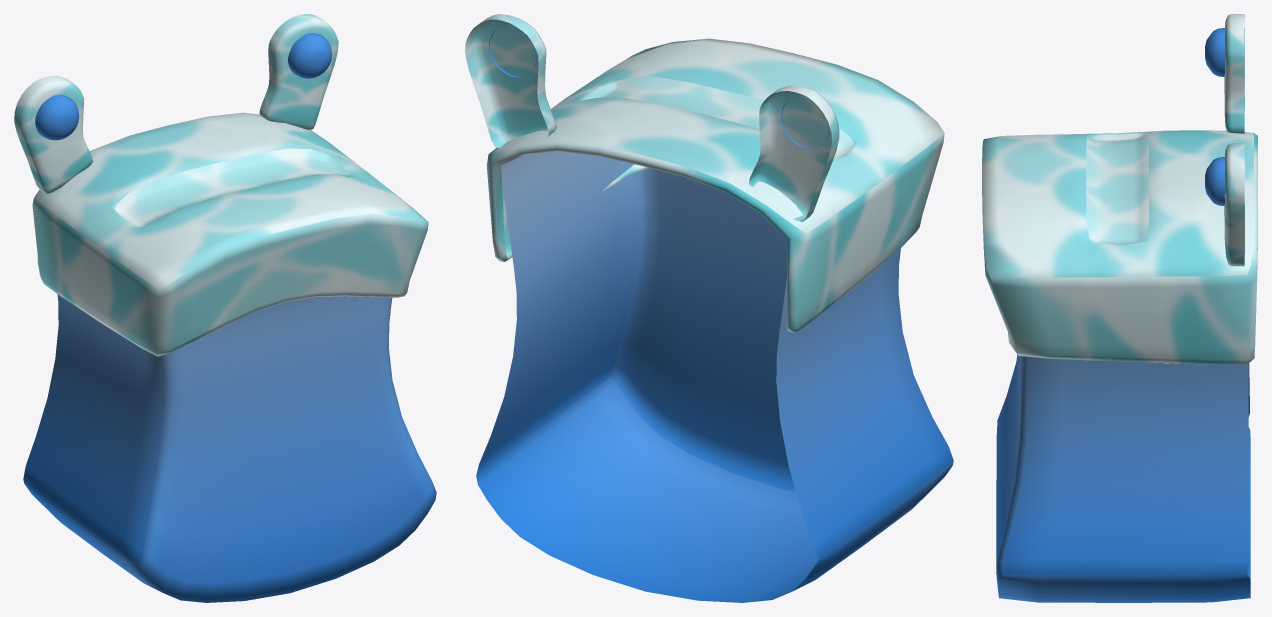
Rendered from Mailbox_C_blue.fbx.
3 renders of one model, left to right at view 1: azimuth 30°, elevation 25°; view 2: azimuth 150°, elevation 25°; view 3: azimuth 270°, elevation 25°, orthographic. The views are drawn at different scales.
Visible parts, largest first — view 1: MailboxC_blue; view 2: MailboxC_blue; view 3: MailboxC_blue.
Part boxes in pixels (x1,y1,x2,y2): MailboxC_blue: (14,14,436,602); MailboxC_blue: (465,14,953,602); MailboxC_blue: (982,14,1257,602).
Bounding box in the file's own units: 1.14 × 0.8211 × 1.6.
